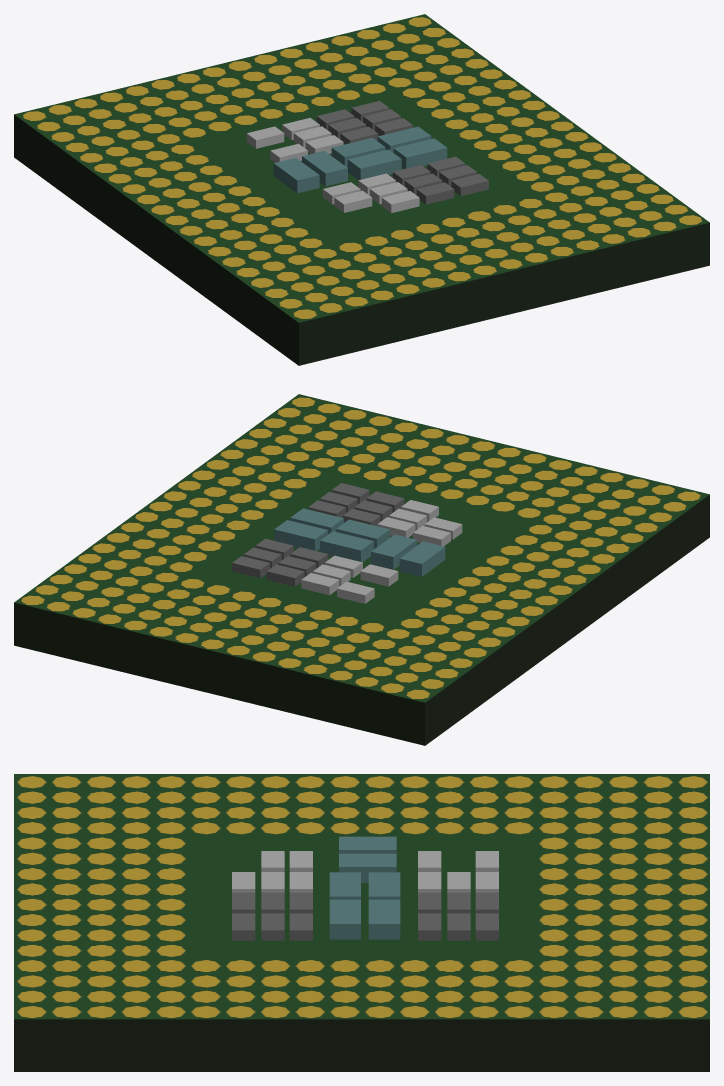
Rendered from Analyzer_ChipTextur.fbx.
3 renders of one model, top to bottom at view 1: azimuth 30°, elevation 25°; view 2: azimuth 150°, elevation 25°; view 3: azimuth 270°, elevation 25°, orthographic. The views are drawn at different scales.
Visible parts, largest first — view 1: pCube1, pCube10 (×4), pCube4, pCube7, pCube3, pCube6, pCube5, pCube2, pCube8; view 2: pCube1, pCube8 (×5), pCube5, pCube7, pCube2, pCube6, pCube4, pCube3, pCube10; view 3: pCube1, pCube8 (×8), pCube10 (×8), pCube9 (×6), pCube2, pCube3, pCube6, pCube7, pCube5, pCube4.
Part boxes in pixels (left/top/right/bottom): pCube1: left=14, top=14, right=709, bottom=365; pCube10 (×4): left=334, top=174, right=488, bottom=212; pCube4: left=347, top=149, right=401, bottom=180; pCube7: left=273, top=158, right=319, bottom=193; pCube3: left=393, top=138, right=447, bottom=168; pCube6: left=302, top=151, right=347, bottom=186; pCube5: left=331, top=137, right=385, bottom=167; pCube2: left=377, top=126, right=431, bottom=152; pCube8: left=246, top=126, right=284, bottom=148; pCube1: left=14, top=394, right=709, bottom=745; pCube8 (×5): left=232, top=526, right=450, bottom=603; pCube5: left=320, top=531, right=373, bottom=562; pCube7: left=399, top=541, right=445, bottom=576; pCube2: left=274, top=520, right=327, bottom=550; pCube6: left=371, top=534, right=416, bottom=569; pCube4: left=336, top=519, right=389, bottom=548; pCube3: left=290, top=508, right=343, bottom=534; pCube10: left=360, top=564, right=398, bottom=586; pCube1: left=14, top=774, right=709, bottom=1071; pCube8 (×8): left=289, top=851, right=498, bottom=940; pCube10 (×8): left=232, top=851, right=441, bottom=940; pCube9 (×6): left=261, top=872, right=470, bottom=940; pCube2: left=368, top=899, right=400, bottom=939; pCube3: left=329, top=899, right=360, bottom=939; pCube6: left=339, top=853, right=396, bottom=882; pCube7: left=339, top=836, right=396, bottom=853; pCube5: left=368, top=872, right=400, bottom=899; pCube4: left=329, top=872, right=360, bottom=899.
Size of the model in its own units: 5 by 0.65 by 6.
